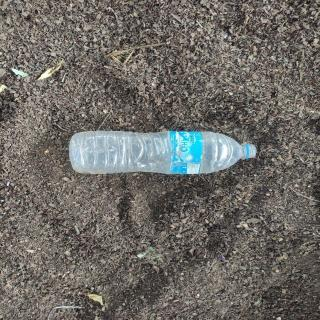Plastic-bottle: (66, 127, 264, 181)
